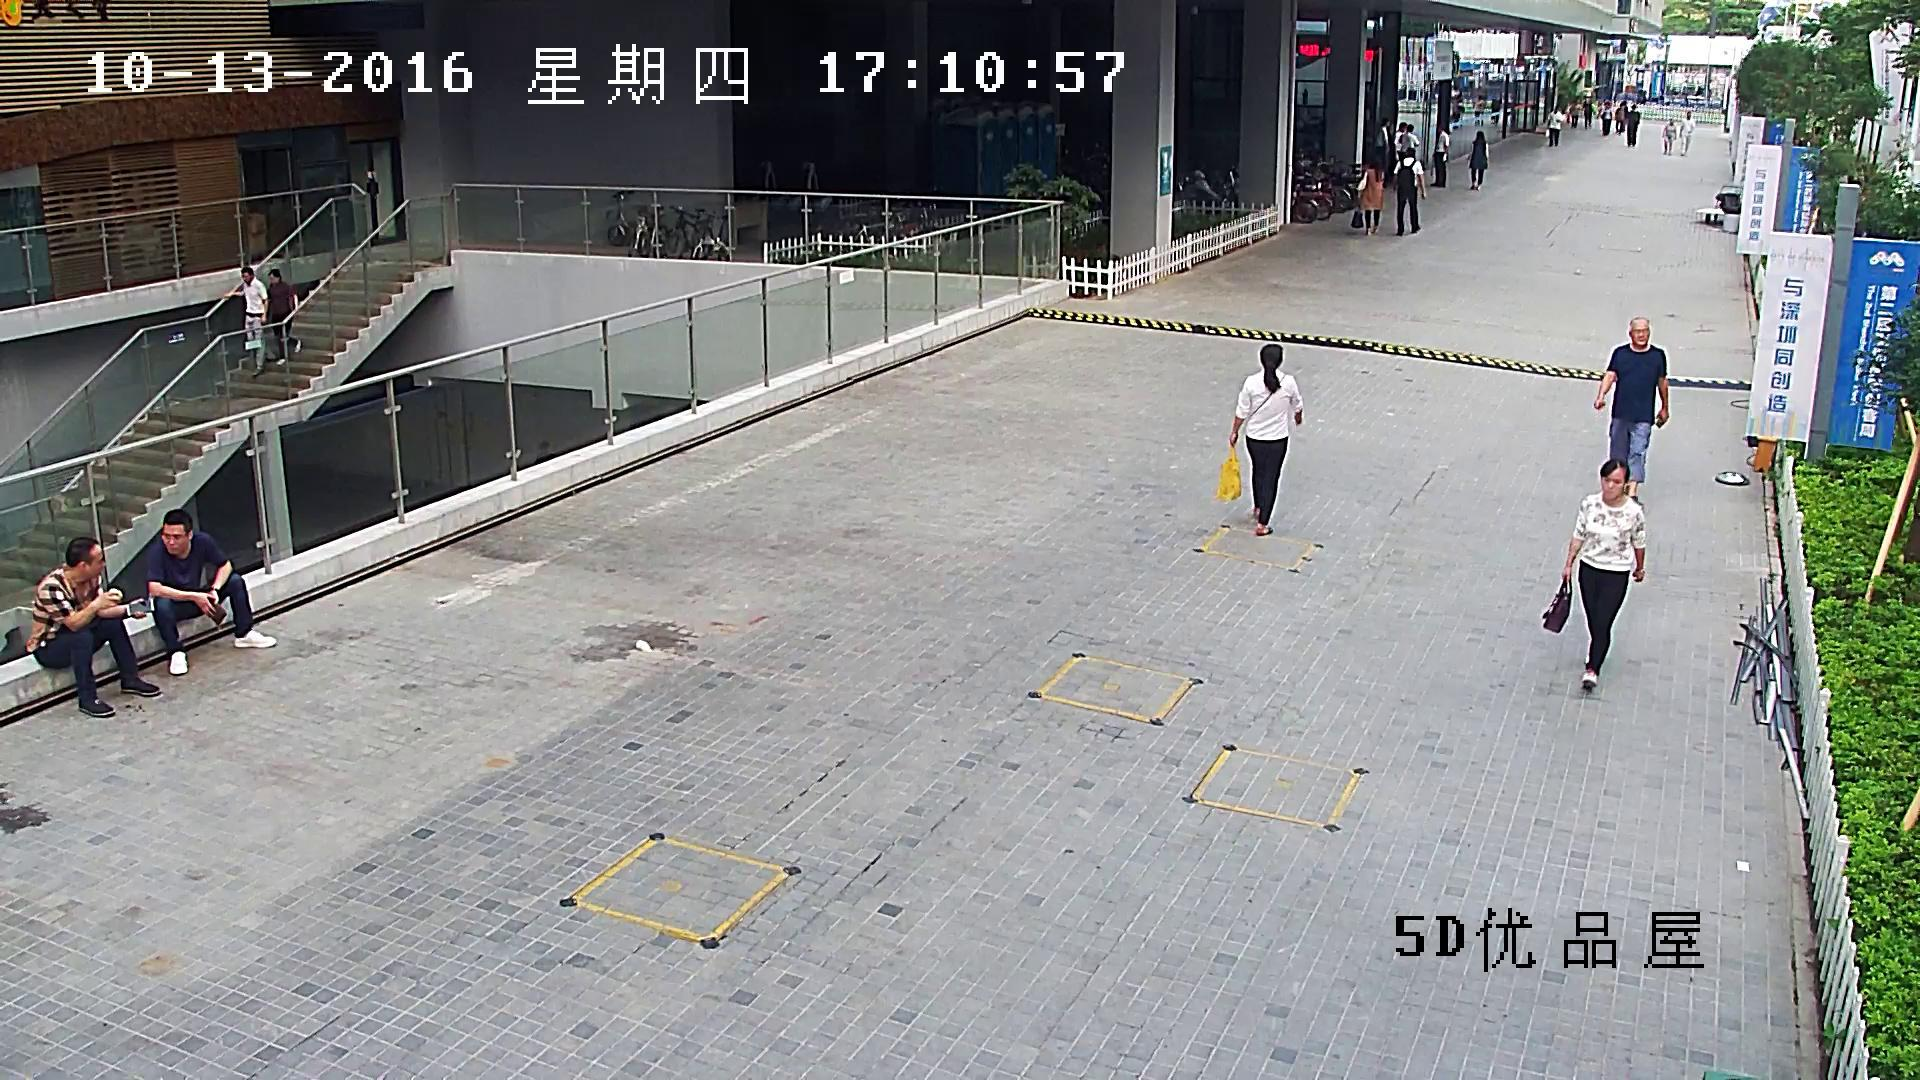person: (25, 537, 160, 716), (1542, 458, 1645, 687), (144, 509, 276, 675), (1217, 343, 1302, 535), (1593, 317, 1668, 504), (224, 266, 268, 376), (266, 269, 301, 365), (1392, 147, 1425, 235), (1352, 155, 1383, 234), (1430, 124, 1449, 187), (1467, 130, 1488, 190), (1374, 117, 1389, 187), (1679, 110, 1695, 156), (1545, 106, 1563, 146), (1399, 124, 1419, 158), (1625, 104, 1639, 147), (1662, 119, 1676, 155), (1394, 122, 1406, 161), (1452, 94, 1466, 122), (1615, 102, 1627, 132), (1601, 101, 1611, 135), (1567, 100, 1578, 127), (1582, 101, 1593, 129), (1474, 94, 1484, 125), (1491, 96, 1500, 122)
